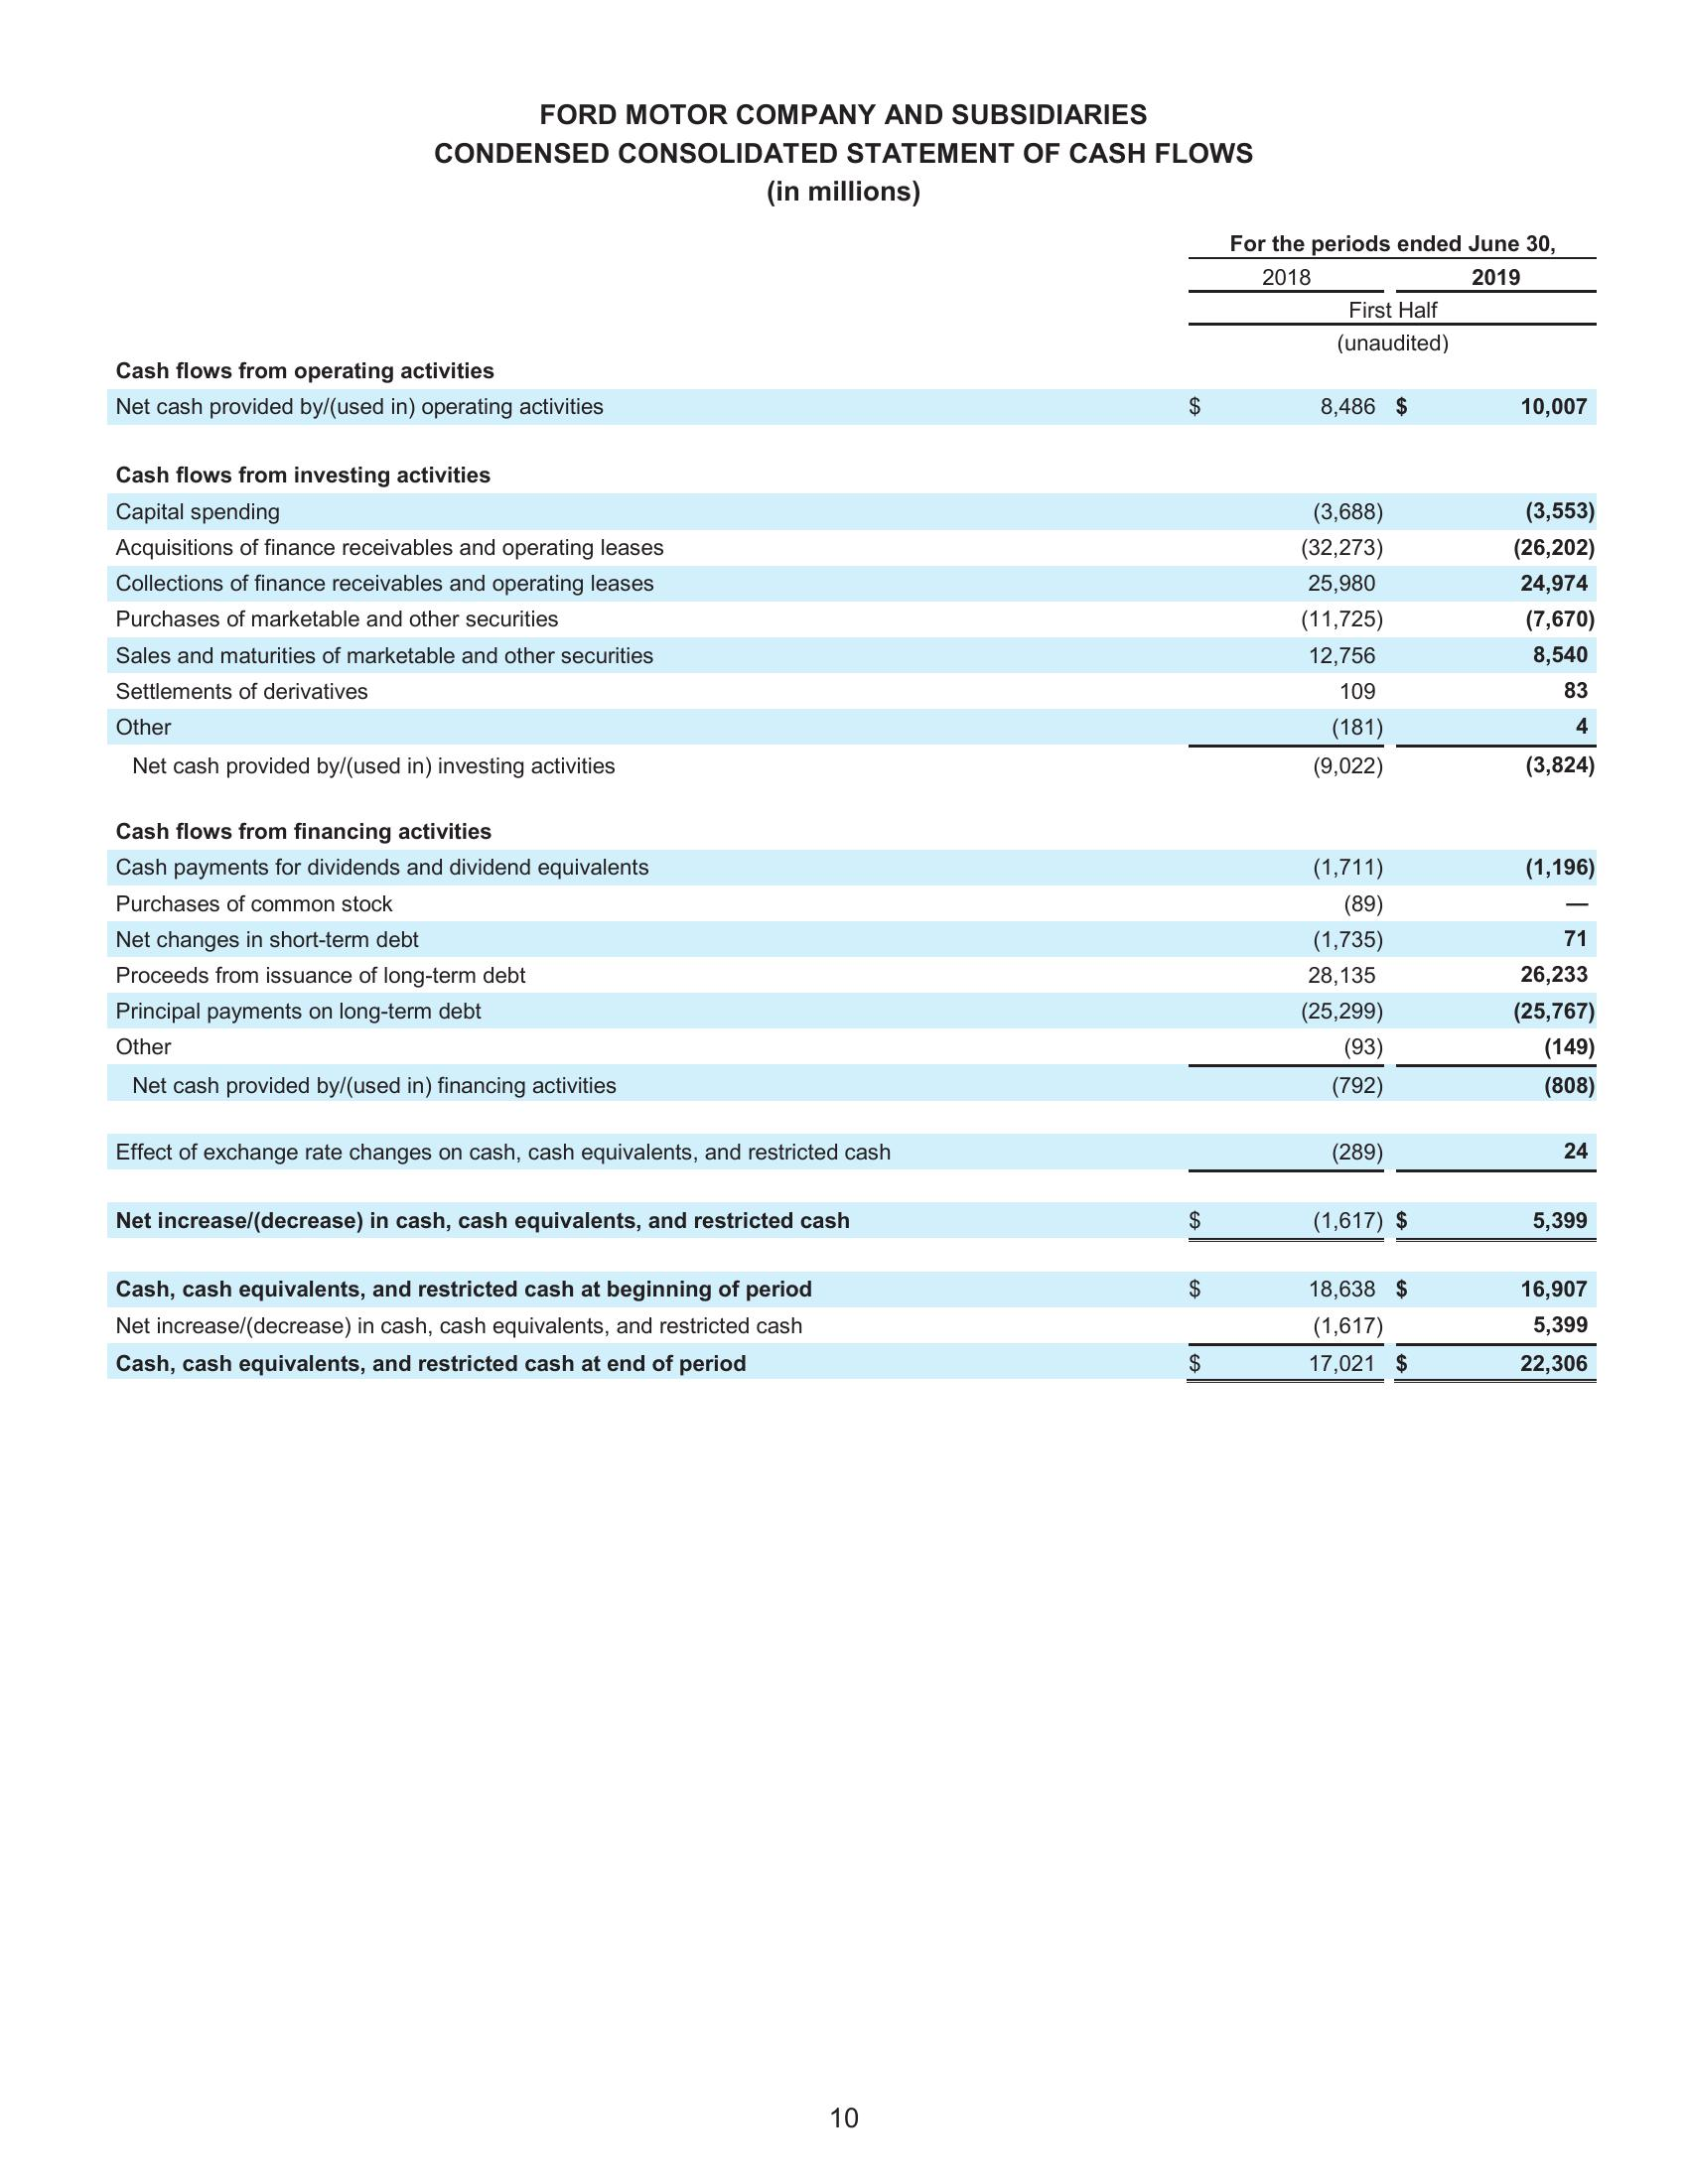table: (103, 227, 1608, 1388)
